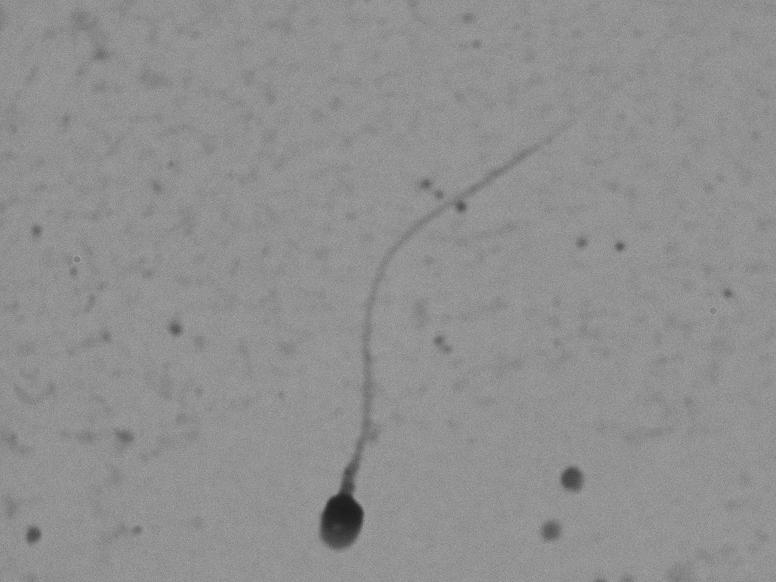Abnormal: (231, 100, 534, 557)
